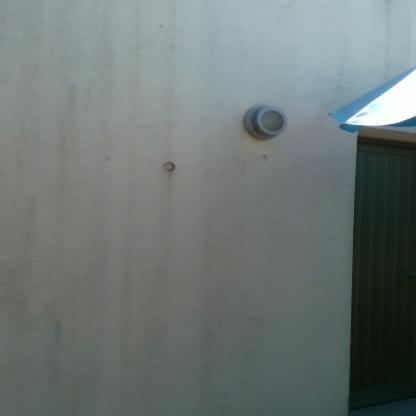door: (357, 137, 415, 402)
lever: (404, 269, 416, 280)
